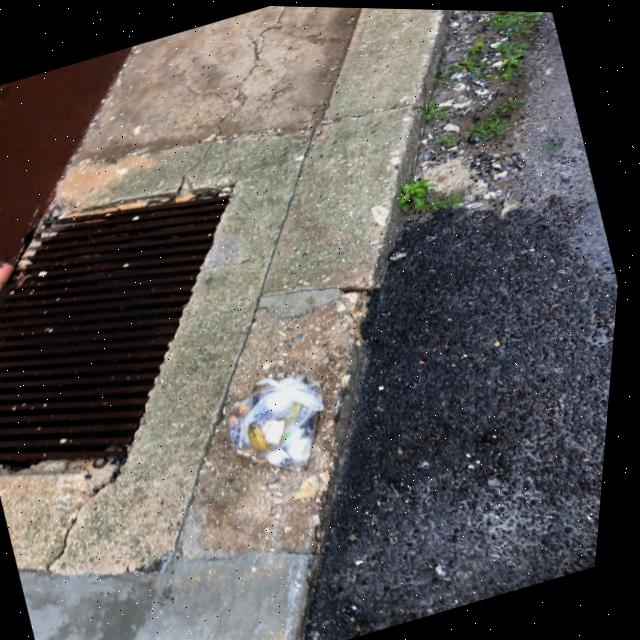Organic Waste -White Bag-: (213, 360, 354, 484)
